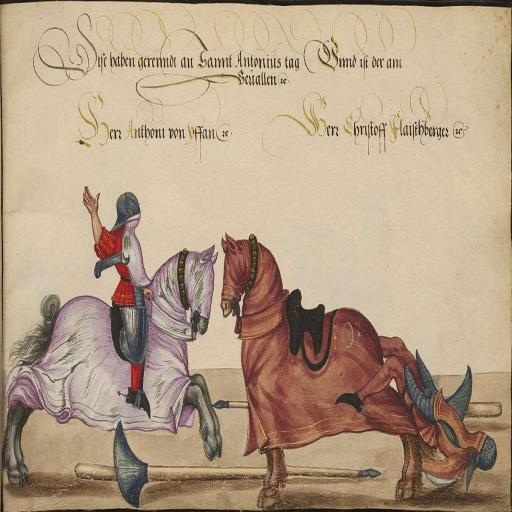Horse: (221, 234, 458, 511), (4, 242, 222, 489)
